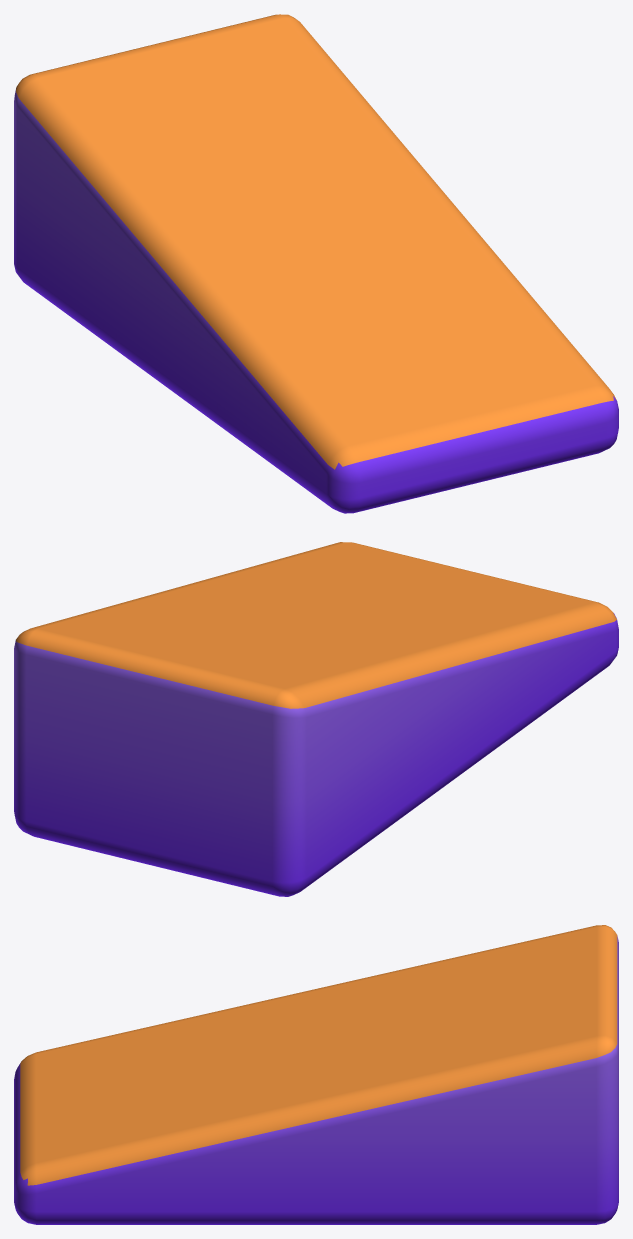
File: ramp_2x4_rise1.glb
The picture shows the model from 3 angles, top to bottom: view 1: azimuth 30°, elevation 25°; view 2: azimuth 150°, elevation 25°; view 3: azimuth 270°, elevation 25°; orthographic projection. The views are drawn at different scales.
Visible parts, largest first — view 1: ramp_2x4_rise1; view 2: ramp_2x4_rise1; view 3: ramp_2x4_rise1.
Boxes of the visible parts, left/top/right/bottom form: ramp_2x4_rise1: left=14, top=14, right=618, bottom=513; ramp_2x4_rise1: left=14, top=542, right=618, bottom=896; ramp_2x4_rise1: left=14, top=925, right=618, bottom=1224.
Size of the model in its own units: 2 by 1.37 by 4.
Materials: 1 (1 with a texture image).
